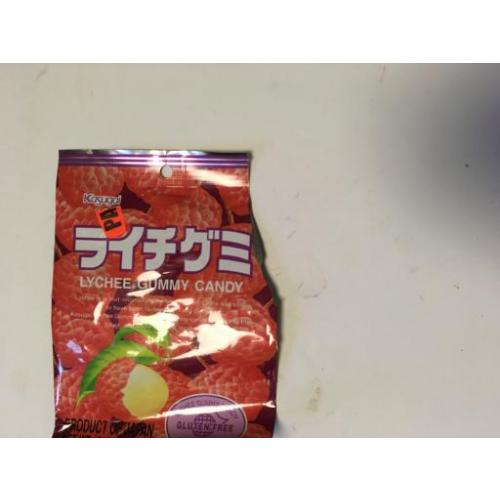plastic: (50, 146, 282, 438)
